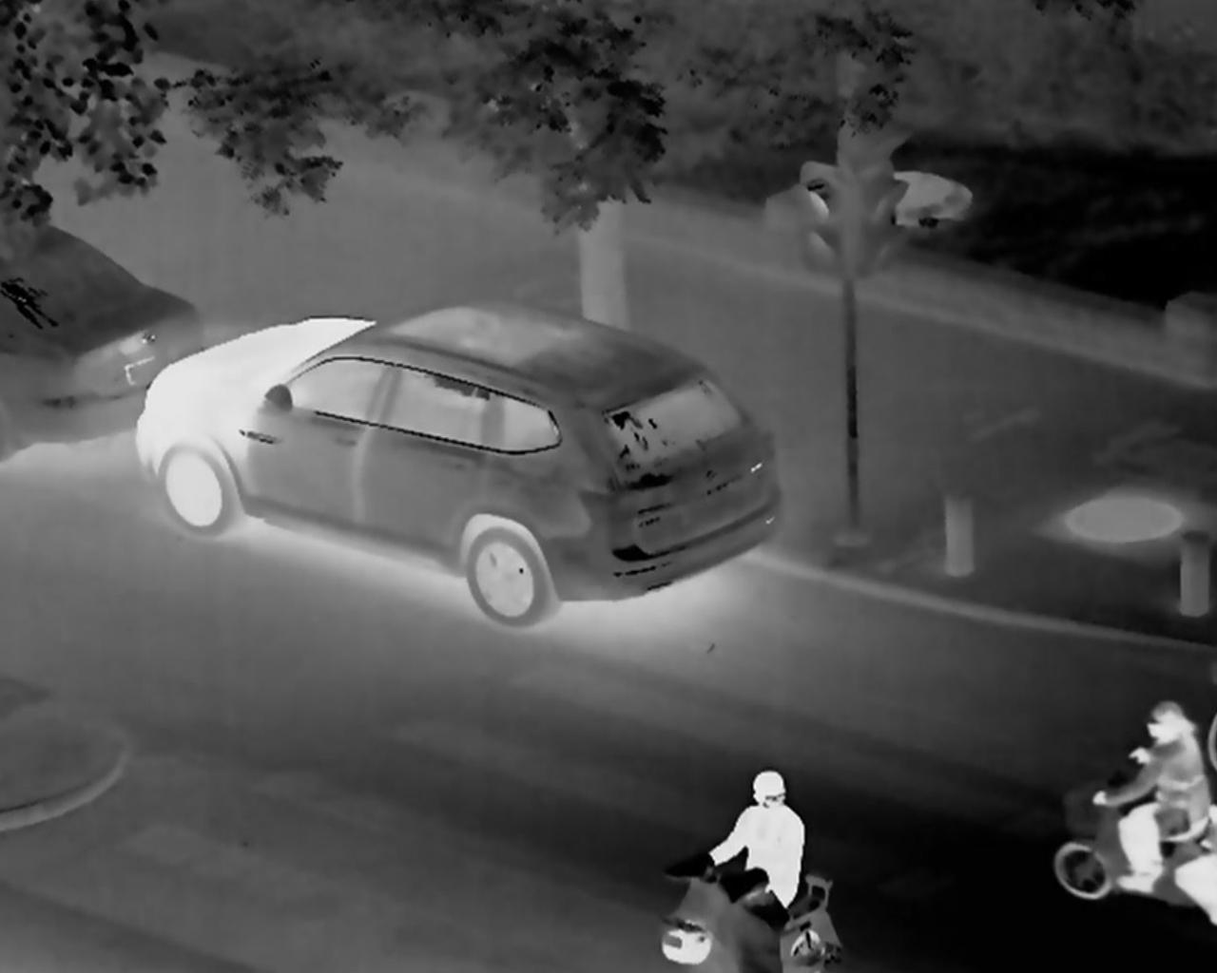person: (1097, 708, 1217, 891), (708, 752, 840, 916)
